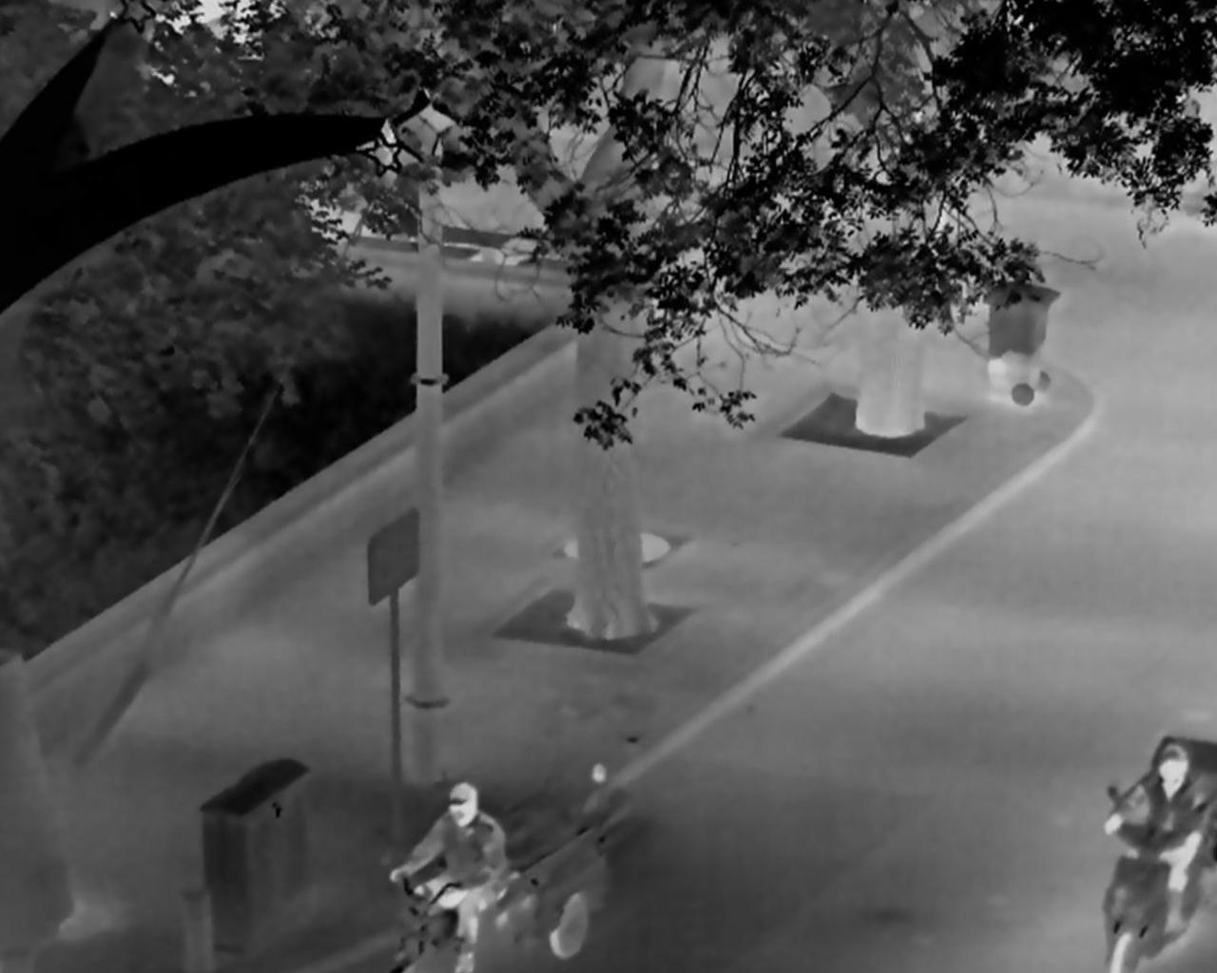person: (386, 780, 506, 973), (1102, 740, 1208, 941)
